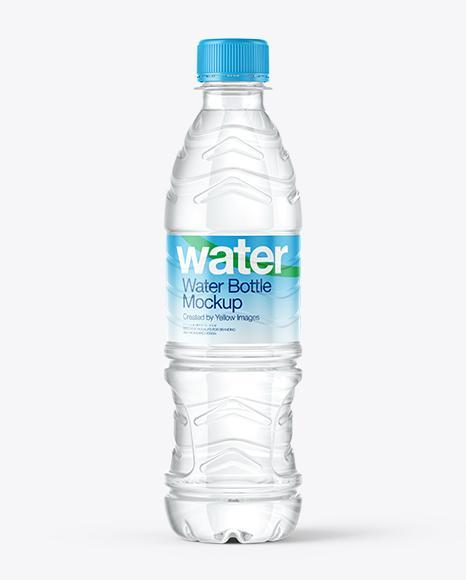plastic: (166, 82, 302, 234)
